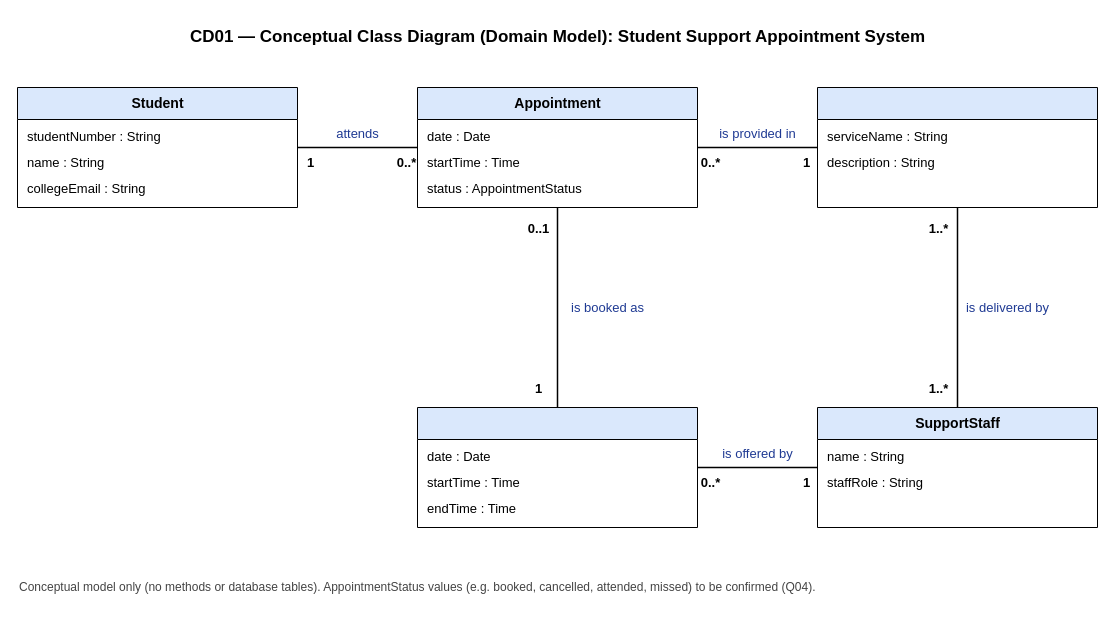
This 1115x619 diagram has some shape labels left out. The shapes that lost their labels are listed below. From the top down, each one's box as (x1, y1, x2, y2) in pixels, then its label:
(816, 86, 1098, 208): SupportService
(416, 406, 698, 528): AvailabilitySlot
